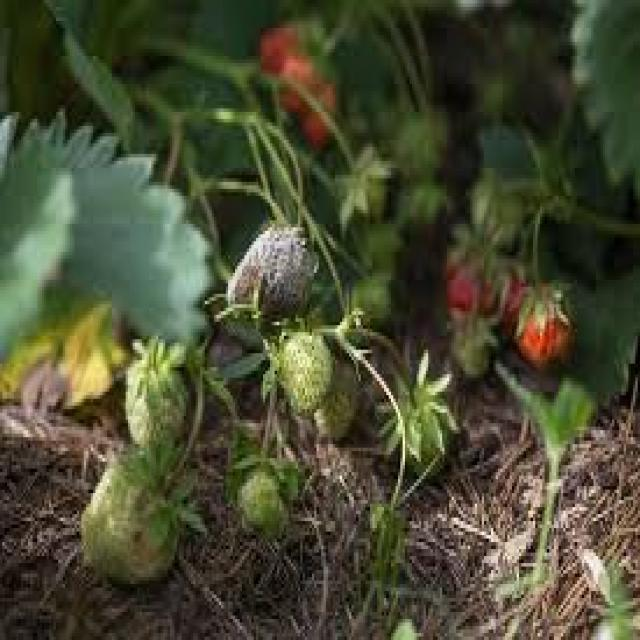Fruta sana: (444, 250, 568, 360), (78, 446, 175, 568), (262, 22, 344, 146), (270, 346, 364, 439), (124, 349, 186, 452)
Moho gris: (225, 212, 322, 328)
